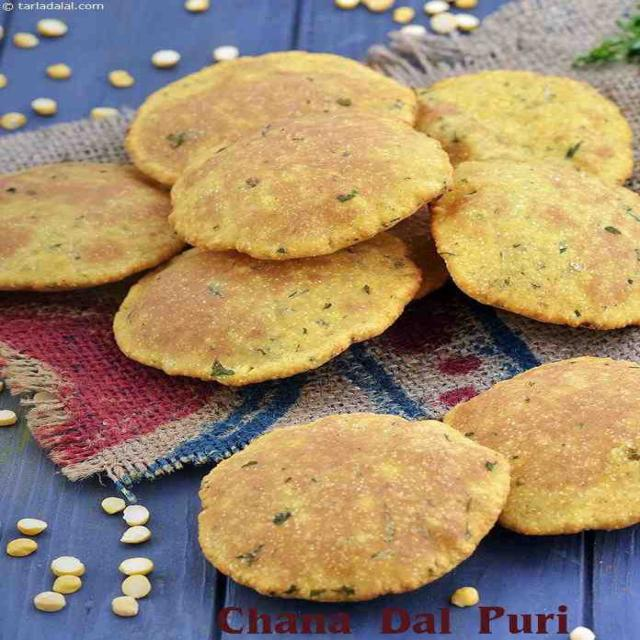puri: (5, 68, 640, 599)
